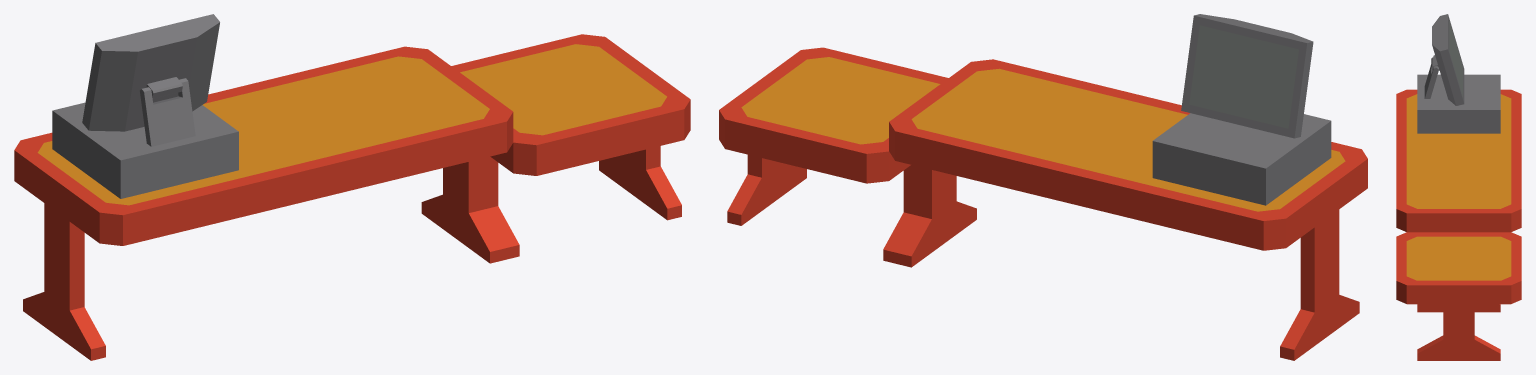
The model's file is Counter03.fbx.
3 renders of one model, left to right at view 1: azimuth 30°, elevation 25°; view 2: azimuth 150°, elevation 25°; view 3: azimuth 270°, elevation 25°, orthographic. The views are drawn at different scales.
Visible parts, largest first — view 1: Table_Large, Table_Small, CashRegister; view 2: Table_Large, CashRegister, Table_Small; view 3: Table_Large, Table_Small, CashRegister.
Part boxes in pixels (x1=…): Table_Large: x1=14, y1=46, x2=513, y2=360; Table_Small: x1=451, y1=34, x2=690, y2=259; CashRegister: x1=52, y1=14, x2=238, y2=198; Table_Large: x1=889, y1=59, x2=1367, y2=360; CashRegister: x1=1152, y1=14, x2=1331, y2=205; Table_Small: x1=719, y1=47, x2=948, y2=263; Table_Large: x1=1396, y1=89, x2=1521, y2=232; Table_Small: x1=1396, y1=232, x2=1521, y2=360; CashRegister: x1=1417, y1=14, x2=1500, y2=133.
Size of the model in its own units: 4 by 1.89 by 1.2.
1 material, 1 textured.
